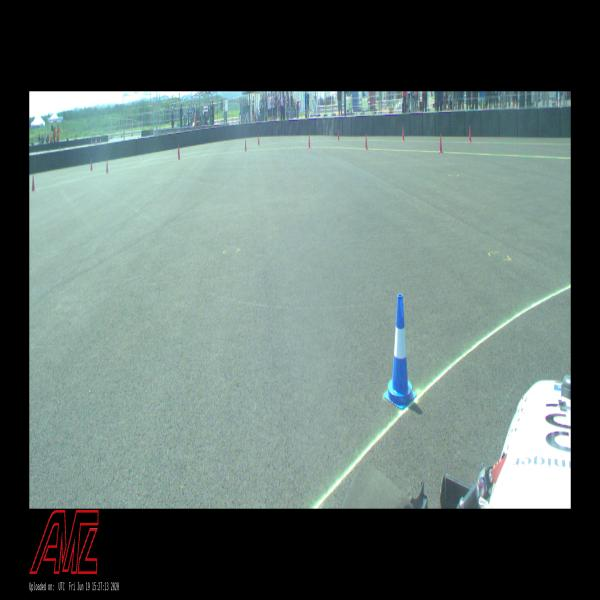blue_cone: (384, 293, 416, 409)
